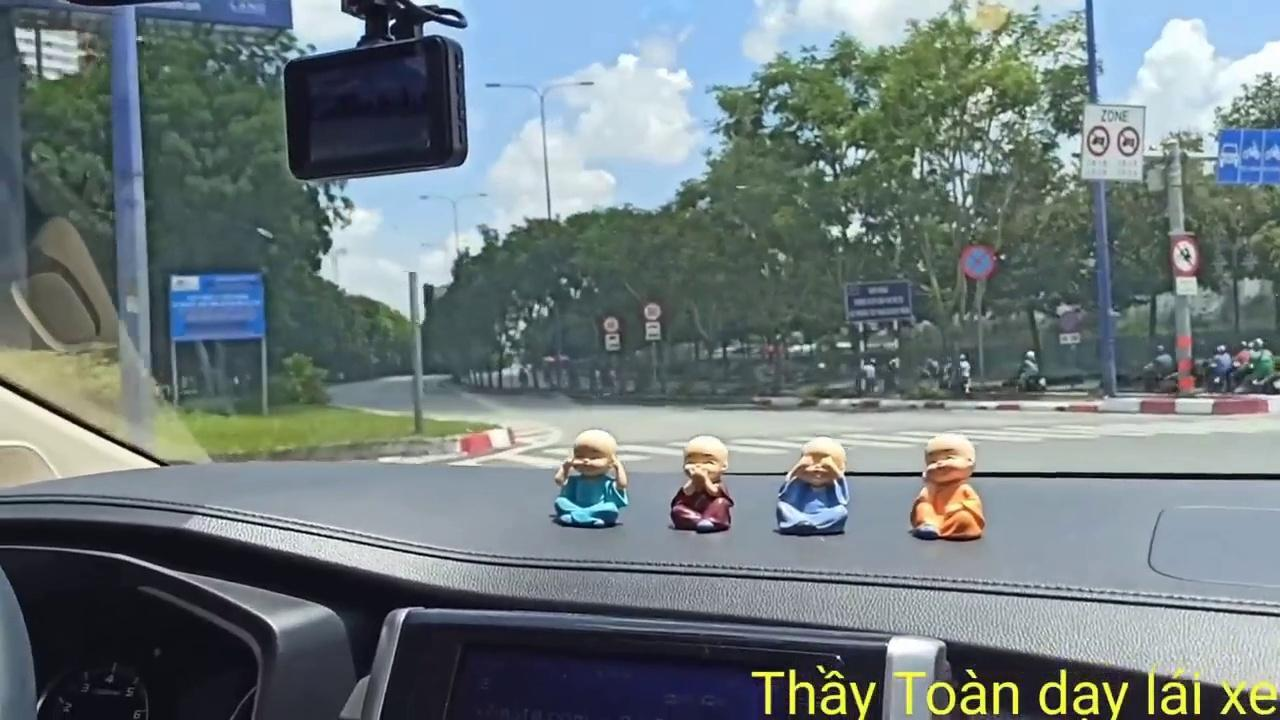Biển phụ: (605, 333, 622, 353), (645, 320, 661, 341)
Cấm cac phương tiện hoạt động trong khung giờ cố định: (1081, 100, 1144, 184)
Cấm dừng - Cấm đỗ: (958, 240, 998, 282)
Cấm xe máy: (1168, 234, 1202, 277)
Khác: (166, 271, 267, 342)
Làn đường cho từng xe: (1219, 125, 1279, 186)
